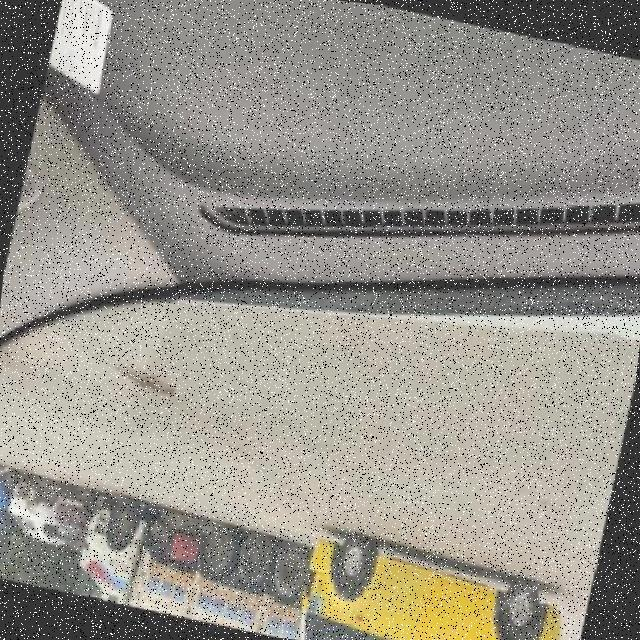Pothole: (111, 363, 175, 394)
